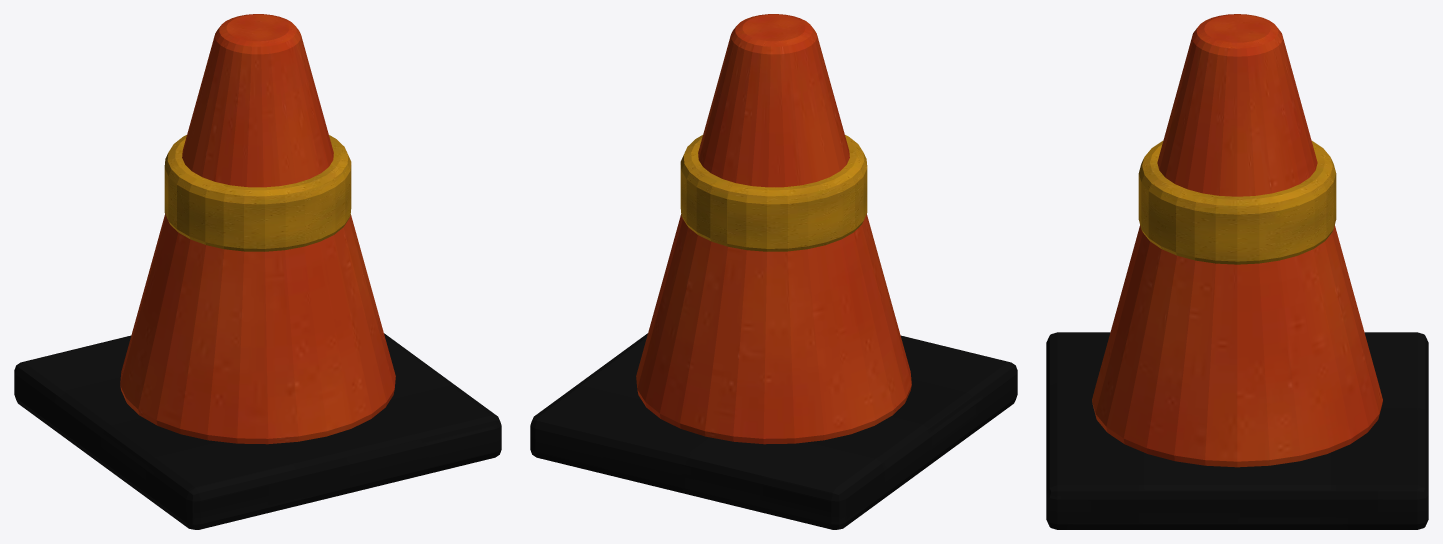
Rendered from traffic-cone-v1.glb.
3 renders of one model, left to right at view 1: azimuth 30°, elevation 25°; view 2: azimuth 150°, elevation 25°; view 3: azimuth 270°, elevation 25°, orthographic. The views are drawn at different scales.
Parts seen in each view (by area): view 1: cone_body, cone_base, cone_reflector; view 2: cone_body, cone_base, cone_reflector; view 3: cone_body, cone_base, cone_reflector.
Part boxes in pixels (left/top/right/bottom): cone_body: left=120, top=14, right=395, bottom=444; cone_base: left=14, top=333, right=501, bottom=529; cone_reflector: left=164, top=135, right=351, bottom=251; cone_body: left=636, top=14, right=911, bottom=444; cone_base: left=530, top=333, right=1017, bottom=529; cone_reflector: left=680, top=135, right=867, bottom=251; cone_body: left=1092, top=14, right=1382, bottom=467; cone_base: left=1046, top=332, right=1428, bottom=529; cone_reflector: left=1138, top=141, right=1336, bottom=264.
Size of the model in its own units: 0.62 by 0.76 by 0.62.
3 materials, 3 textured.
